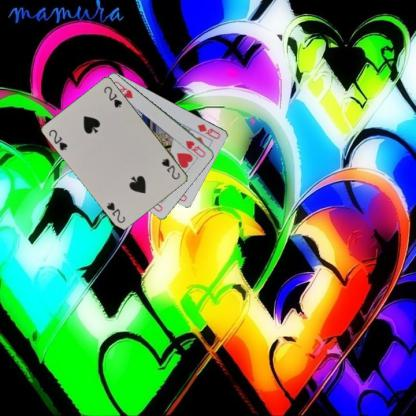2s: (46, 126, 69, 152), (160, 156, 182, 181)
Qd: (195, 122, 222, 140)
Qh: (183, 138, 207, 159)
